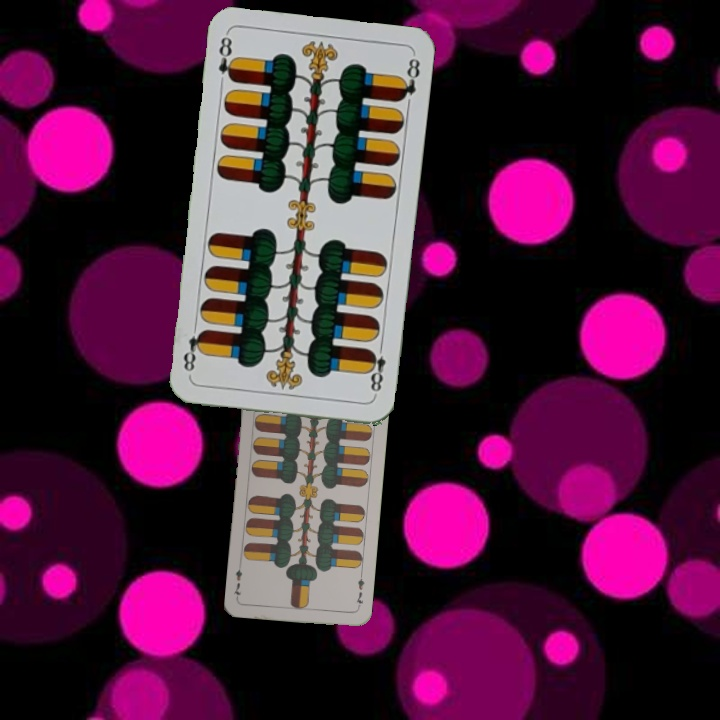E7: (352, 571, 367, 611)
E8: (363, 340, 388, 399), (214, 32, 239, 84)
